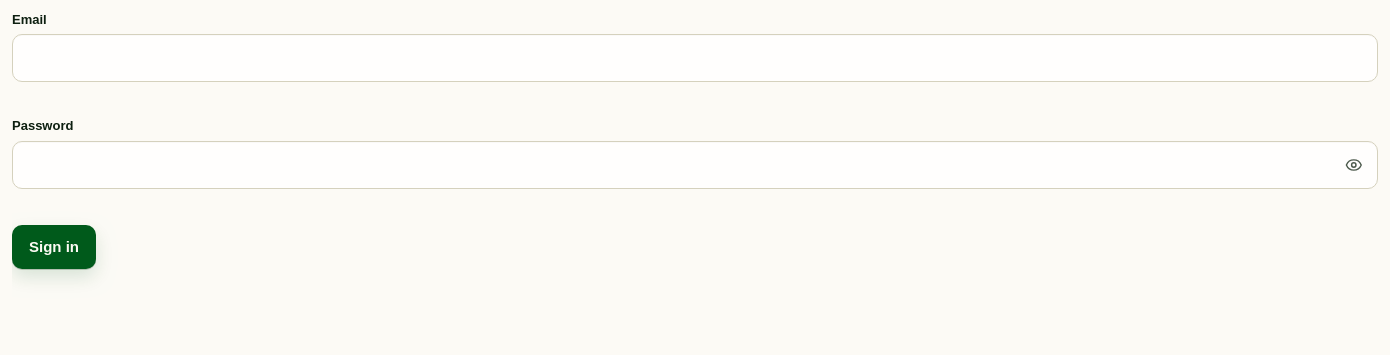
Test: owner login › surfaces an invalid-credentials message without signing in
This screenshot has width=1390, height=355.
In the field labelled "Email": (695, 58) [12,34,1378,82], type "owner@example.com"
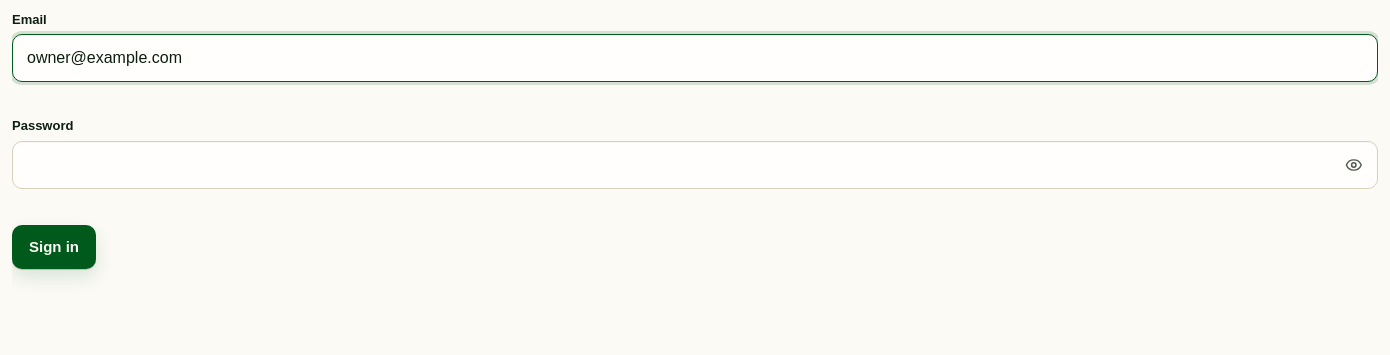
In the password field labelled "Password": (695, 164) [12,140,1378,188], type "a-too-short-password"
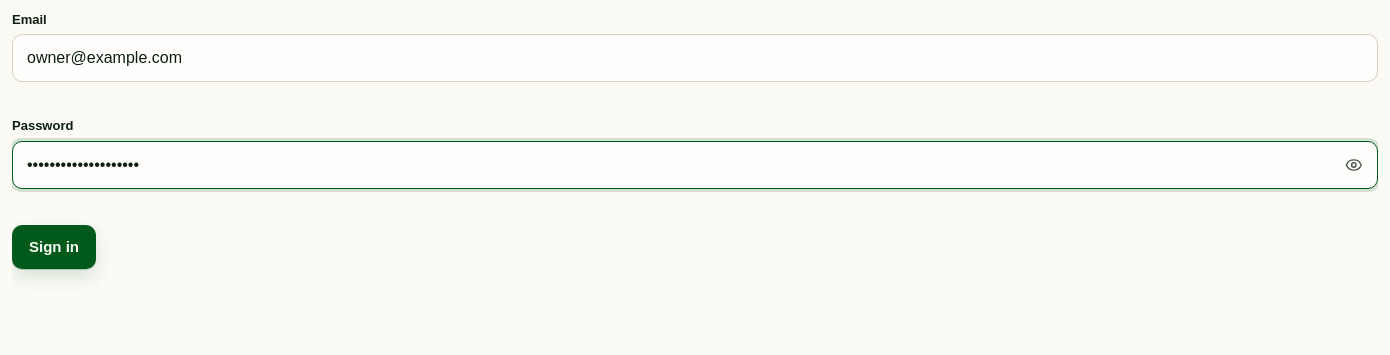
Click the button "Sign in": (54, 246) [12,224,96,268]
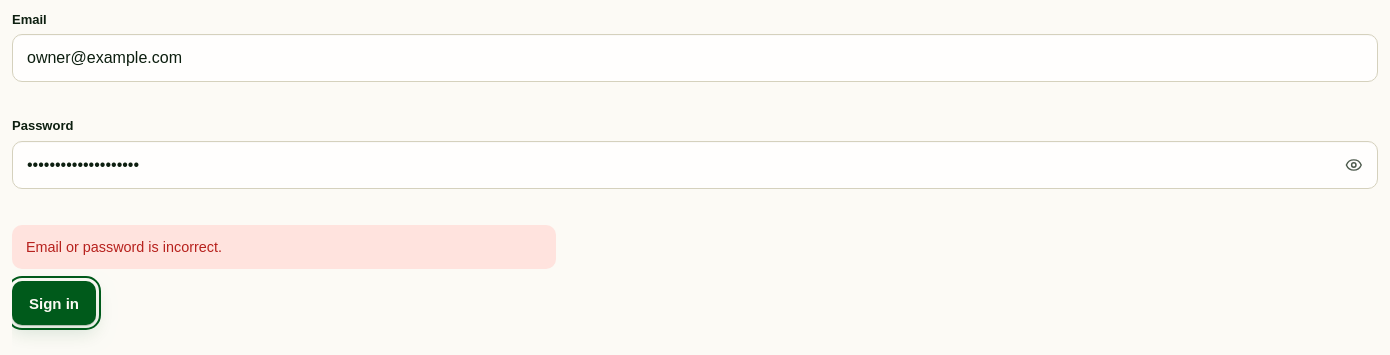
Check: the text "Email or password is incorrect." is shown, box [12,224,556,269]
